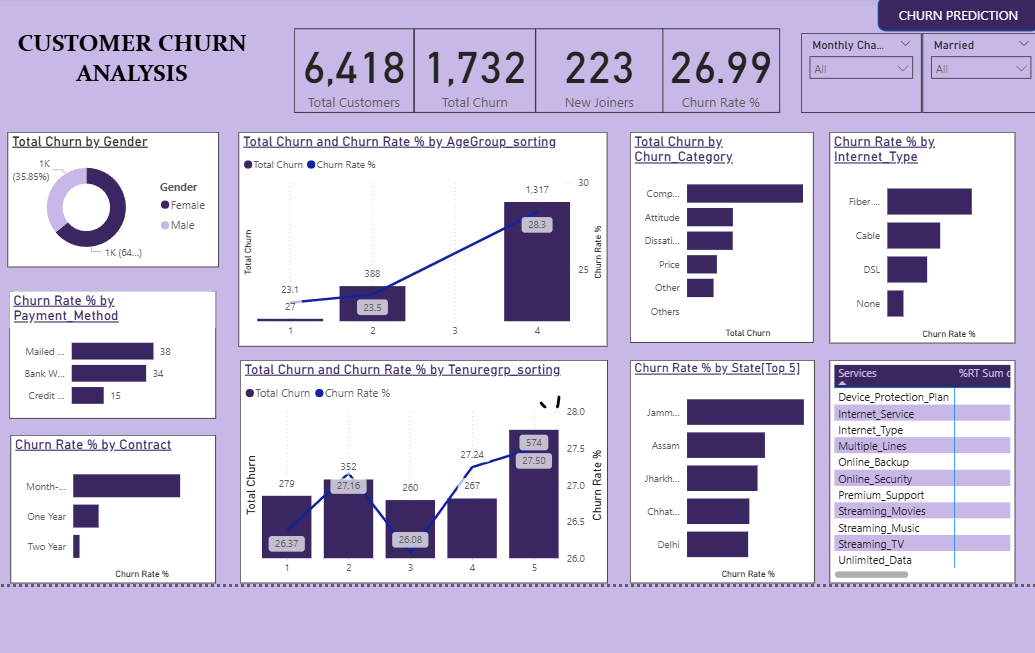

Layout of this report page (visuals, bound fields, positions):
{"tool":"powerbi","page":{"name":"Summary","canvas":[1280,720],"ordinal":0},"visuals":[{"type":"card","fields":{"Values":["db_table_measures.Total Churn"]},"box":[511.8,38.7,149.1,103.1],"z":0},{"type":"card","fields":{"Values":["db_table_measures.Total Customers"]},"box":[364.5,38.7,147.3,103.1],"z":1},{"type":"card","fields":{"Values":["db_table_measures.Churn Rate"]},"box":[815.5,38.7,145.4,103.1],"z":2},{"type":"card","fields":{"Values":["db_table_measures.New Joiners"]},"box":[660.9,38.7,156.5,103.1],"z":3},{"type":"donutChart","fields":{"Category":["prod_Churn.Gender"],"Y":["db_table_measures.Total Churn"]},"box":[12.9,165.7,259.6,165.7],"z":4},{"type":"clusteredBarChart","fields":{"Category":["prod_Churn.Payment_Method"],"Y":["db_table_measures.Churn Rate %"]},"box":[14.7,360.8,254,156.5],"z":6},{"type":"clusteredBarChart","fields":{"Category":["prod_Churn.Contract"],"Y":["db_table_measures.Churn Rate %"]},"box":[16.6,537.5,252.2,182.2],"z":7},{"type":"lineStackedColumnComboChart","fields":{"Category":["mapping_Agegrp.AgeGroup_sorting"],"Y":["db_table_measures.Total Churn"],"Y2":["db_table_measures.Churn Rate %"]},"box":[296.4,165.7,452.9,263.2],"z":8},{"type":"lineStackedColumnComboChart","fields":{"Category":["mapping_Tenuregrp.Tenuregrp_sorting"],"Y":["db_table_measures.Total Churn"],"Y2":["db_table_measures.Churn Rate %"]},"box":[298.2,445.5,451,274.3],"z":9},{"type":"barChart","fields":{"Category":["prod_Churn.Churn_Category"],"Y":["db_table_measures.Total Churn"]},"box":[776.5,166.4,225.6,258.8],"z":10},{"type":"barChart","fields":{"Category":["prod_Churn.Internet_Type"],"Y":["db_table_measures.Churn Rate %"]},"box":[1021.7,165.7,228.3,259.6],"z":11},{"type":"barChart","title":"Churn Rate % by State[Top 5]","fields":{"Category":["prod_Churn.State"],"Y":["db_table_measures.Churn Rate %"]},"box":[776.8,445.5,226.4,274.3],"z":12},{"type":"pivotTable","title":"Churn By Services","fields":{"Values":["Sum(prod_Churn.Churn Status)"],"Rows":["prod_Services.Services"]},"box":[1021.7,445.5,228.3,274.3],"z":13},{"type":"slicer","fields":{"Values":["prod_Churn.Monthly Charge Status"]},"box":[987.3,44.4,147.9,98],"z":14},{"type":"slicer","fields":{"Values":["prod_Churn.Married"]},"box":[1135.2,44.4,144.2,98],"z":15},{"type":"textbox","title":"CUSTOMER CHURN ANALYSIS","box":[12.9,38.7,305.6,73.6],"z":17},{"type":"shape","box":[1080.6,0,198.8,42.3],"z":18}]}

Visuals, with their boxes on the page's 1280x720 design canvas (x1, y1, x2, y2). These are canvas units, not pixel positions in the 1035x653 screenshot, which may show the page scaled, cropped or inside an application window:
card - db_table_measures.Total Churn: select_region(512, 39, 661, 142)
card - db_table_measures.Total Customers: select_region(364, 39, 512, 142)
card - db_table_measures.Churn Rate: select_region(816, 39, 961, 142)
card - db_table_measures.New Joiners: select_region(661, 39, 817, 142)
donutChart - prod_Churn.Gender x db_table_measures.Total Churn: select_region(13, 166, 272, 331)
clusteredBarChart - prod_Churn.Payment_Method x db_table_measures.Churn Rate %: select_region(15, 361, 269, 517)
clusteredBarChart - prod_Churn.Contract x db_table_measures.Churn Rate %: select_region(17, 538, 269, 720)
lineStackedColumnComboChart - mapping_Agegrp.AgeGroup_sorting x db_table_measures.Total Churn: select_region(296, 166, 749, 429)
lineStackedColumnComboChart - mapping_Tenuregrp.Tenuregrp_sorting x db_table_measures.Total Churn: select_region(298, 446, 749, 720)
barChart - prod_Churn.Churn_Category x db_table_measures.Total Churn: select_region(776, 166, 1002, 425)
barChart - prod_Churn.Internet_Type x db_table_measures.Churn Rate %: select_region(1022, 166, 1250, 425)
"Churn Rate % by State[Top 5]" barChart: select_region(777, 446, 1003, 720)
"Churn By Services" pivotTable: select_region(1022, 446, 1250, 720)
slicer - prod_Churn.Monthly Charge Status: select_region(987, 44, 1135, 142)
slicer - prod_Churn.Married: select_region(1135, 44, 1279, 142)
"CUSTOMER CHURN ANALYSIS" textbox: select_region(13, 39, 318, 112)
shape: select_region(1081, 0, 1279, 42)
